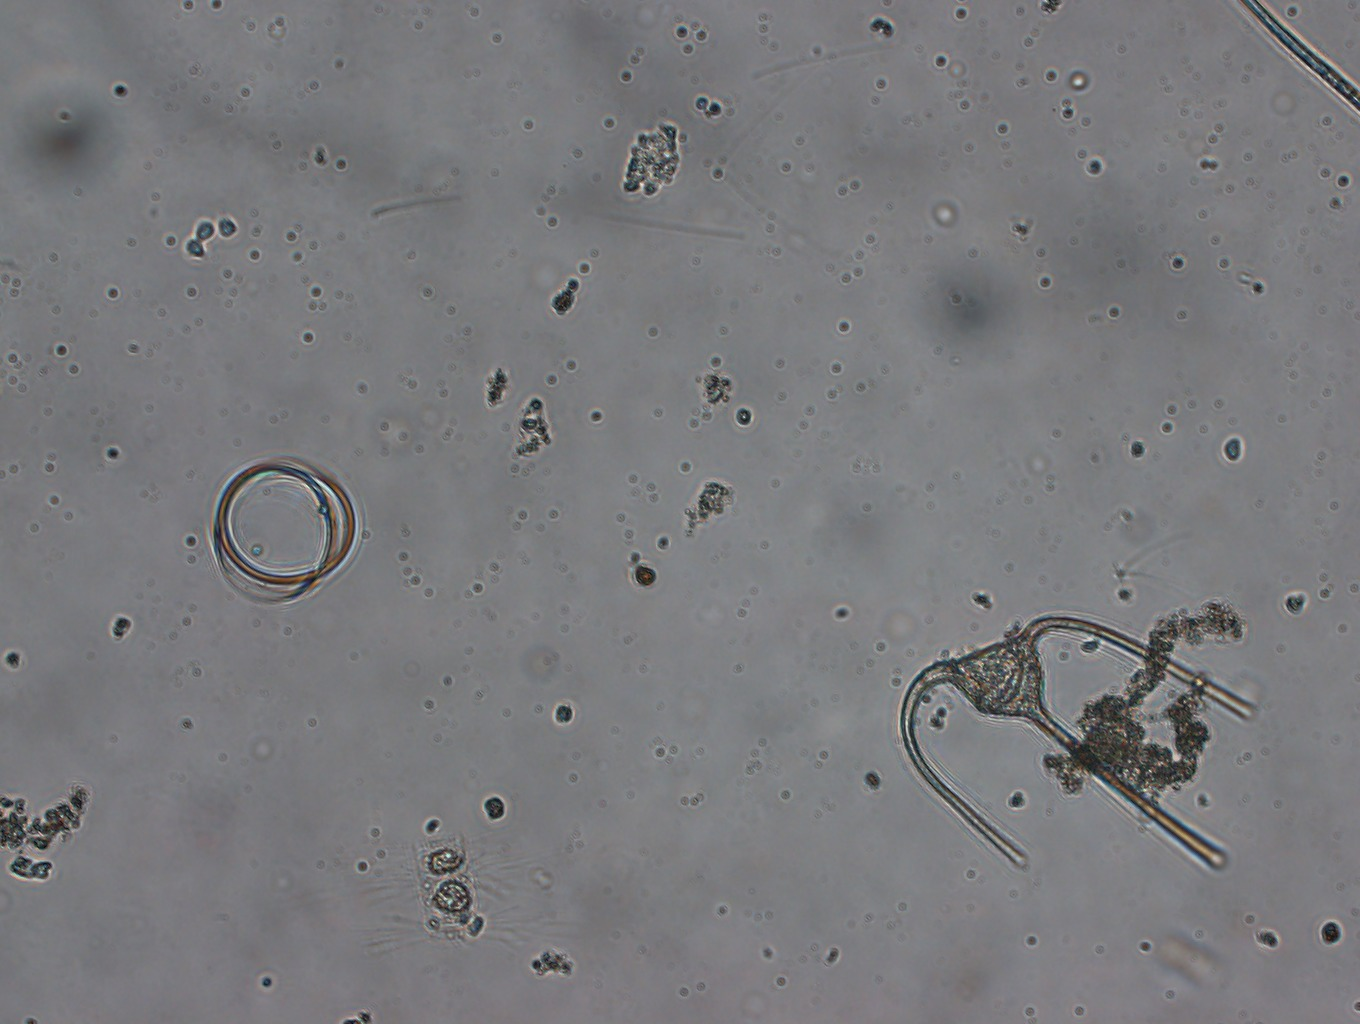ceratium tripos: (887, 606, 1260, 879)
